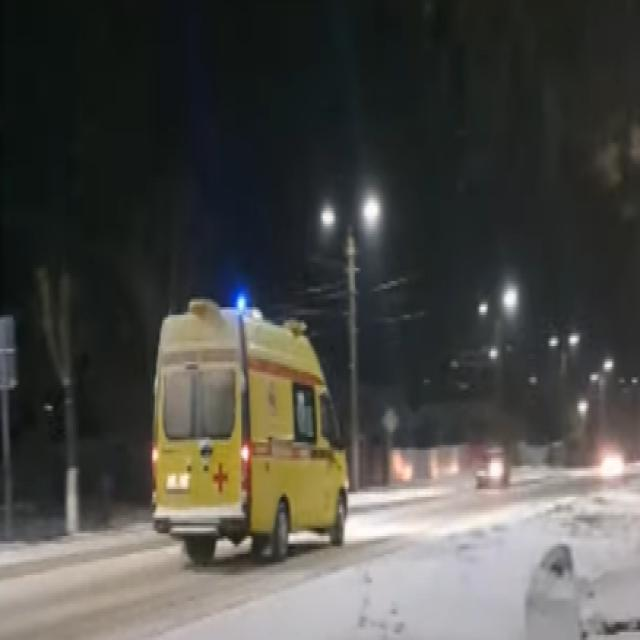intensive care unit: (151, 287, 351, 566)
non emergency car: (474, 443, 511, 493)
